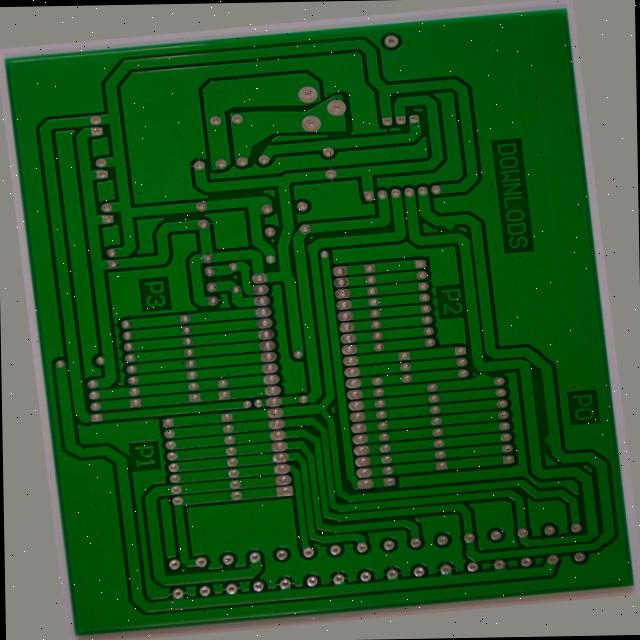spur: (479, 385, 504, 400), (549, 455, 565, 471), (464, 222, 483, 234)
